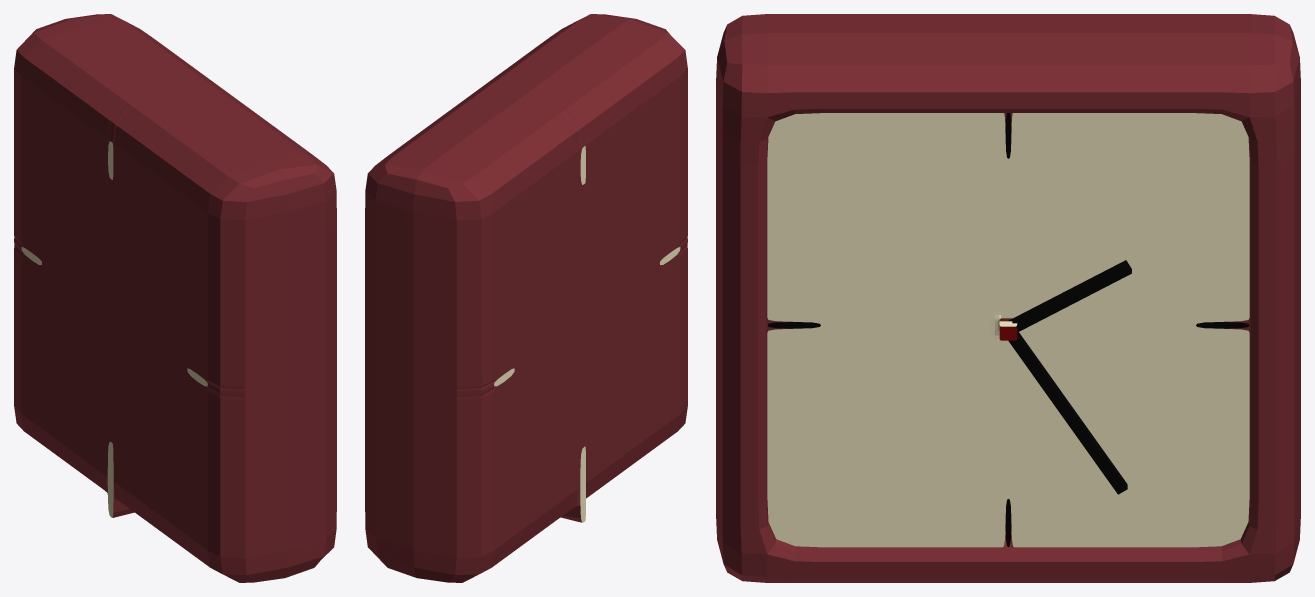
The model's file is clock.fbx.
3 renders of one model, left to right at view 1: azimuth 30°, elevation 25°; view 2: azimuth 150°, elevation 25°; view 3: azimuth 270°, elevation 25°, orthographic. The views are drawn at different scales.
Parts seen in each view (by area): view 1: Cube, Cube.004; view 2: Cube, Cube.004; view 3: Cube.004, Cube, Cube.001, Cube.002, Cube.003.
Part boxes in pixels (x1,y1,x2,y2): Cube: (14,14,336,582); Cube.004: (21,141,207,517); Cube: (365,14,687,582); Cube.004: (494,146,680,522); Cube.004: (767,113,1249,547); Cube: (716,14,1300,582); Cube.001: (1008,332,1127,494); Cube.002: (1008,260,1131,332); Cube.003: (767,113,1249,546).
Size of the model in its own units: 16.08 by 51.8 by 51.61.
6 materials, 5 textured.
